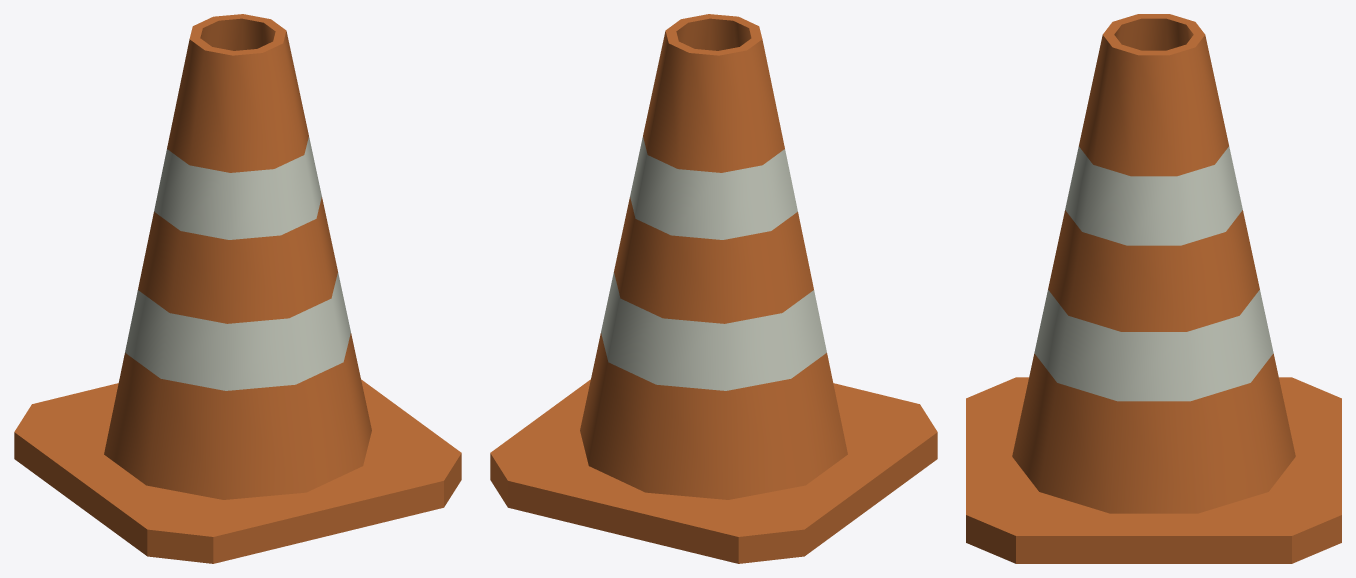
The model's file is TrafficCone.fbx.
3 views of the same model, side by side, from view 1: azimuth 30°, elevation 25°; view 2: azimuth 150°, elevation 25°; view 3: azimuth 270°, elevation 25° (orthographic). The views are drawn at different scales.
Visible parts, largest first — view 1: TrafficCone; view 2: TrafficCone; view 3: TrafficCone.
Part boxes in pixels (x1,y1,x2,y2): TrafficCone: (14, 14, 461, 563); TrafficCone: (490, 14, 937, 563); TrafficCone: (966, 14, 1341, 563).
Size of the model in its own units: 67.46 by 89.14 by 67.46.
